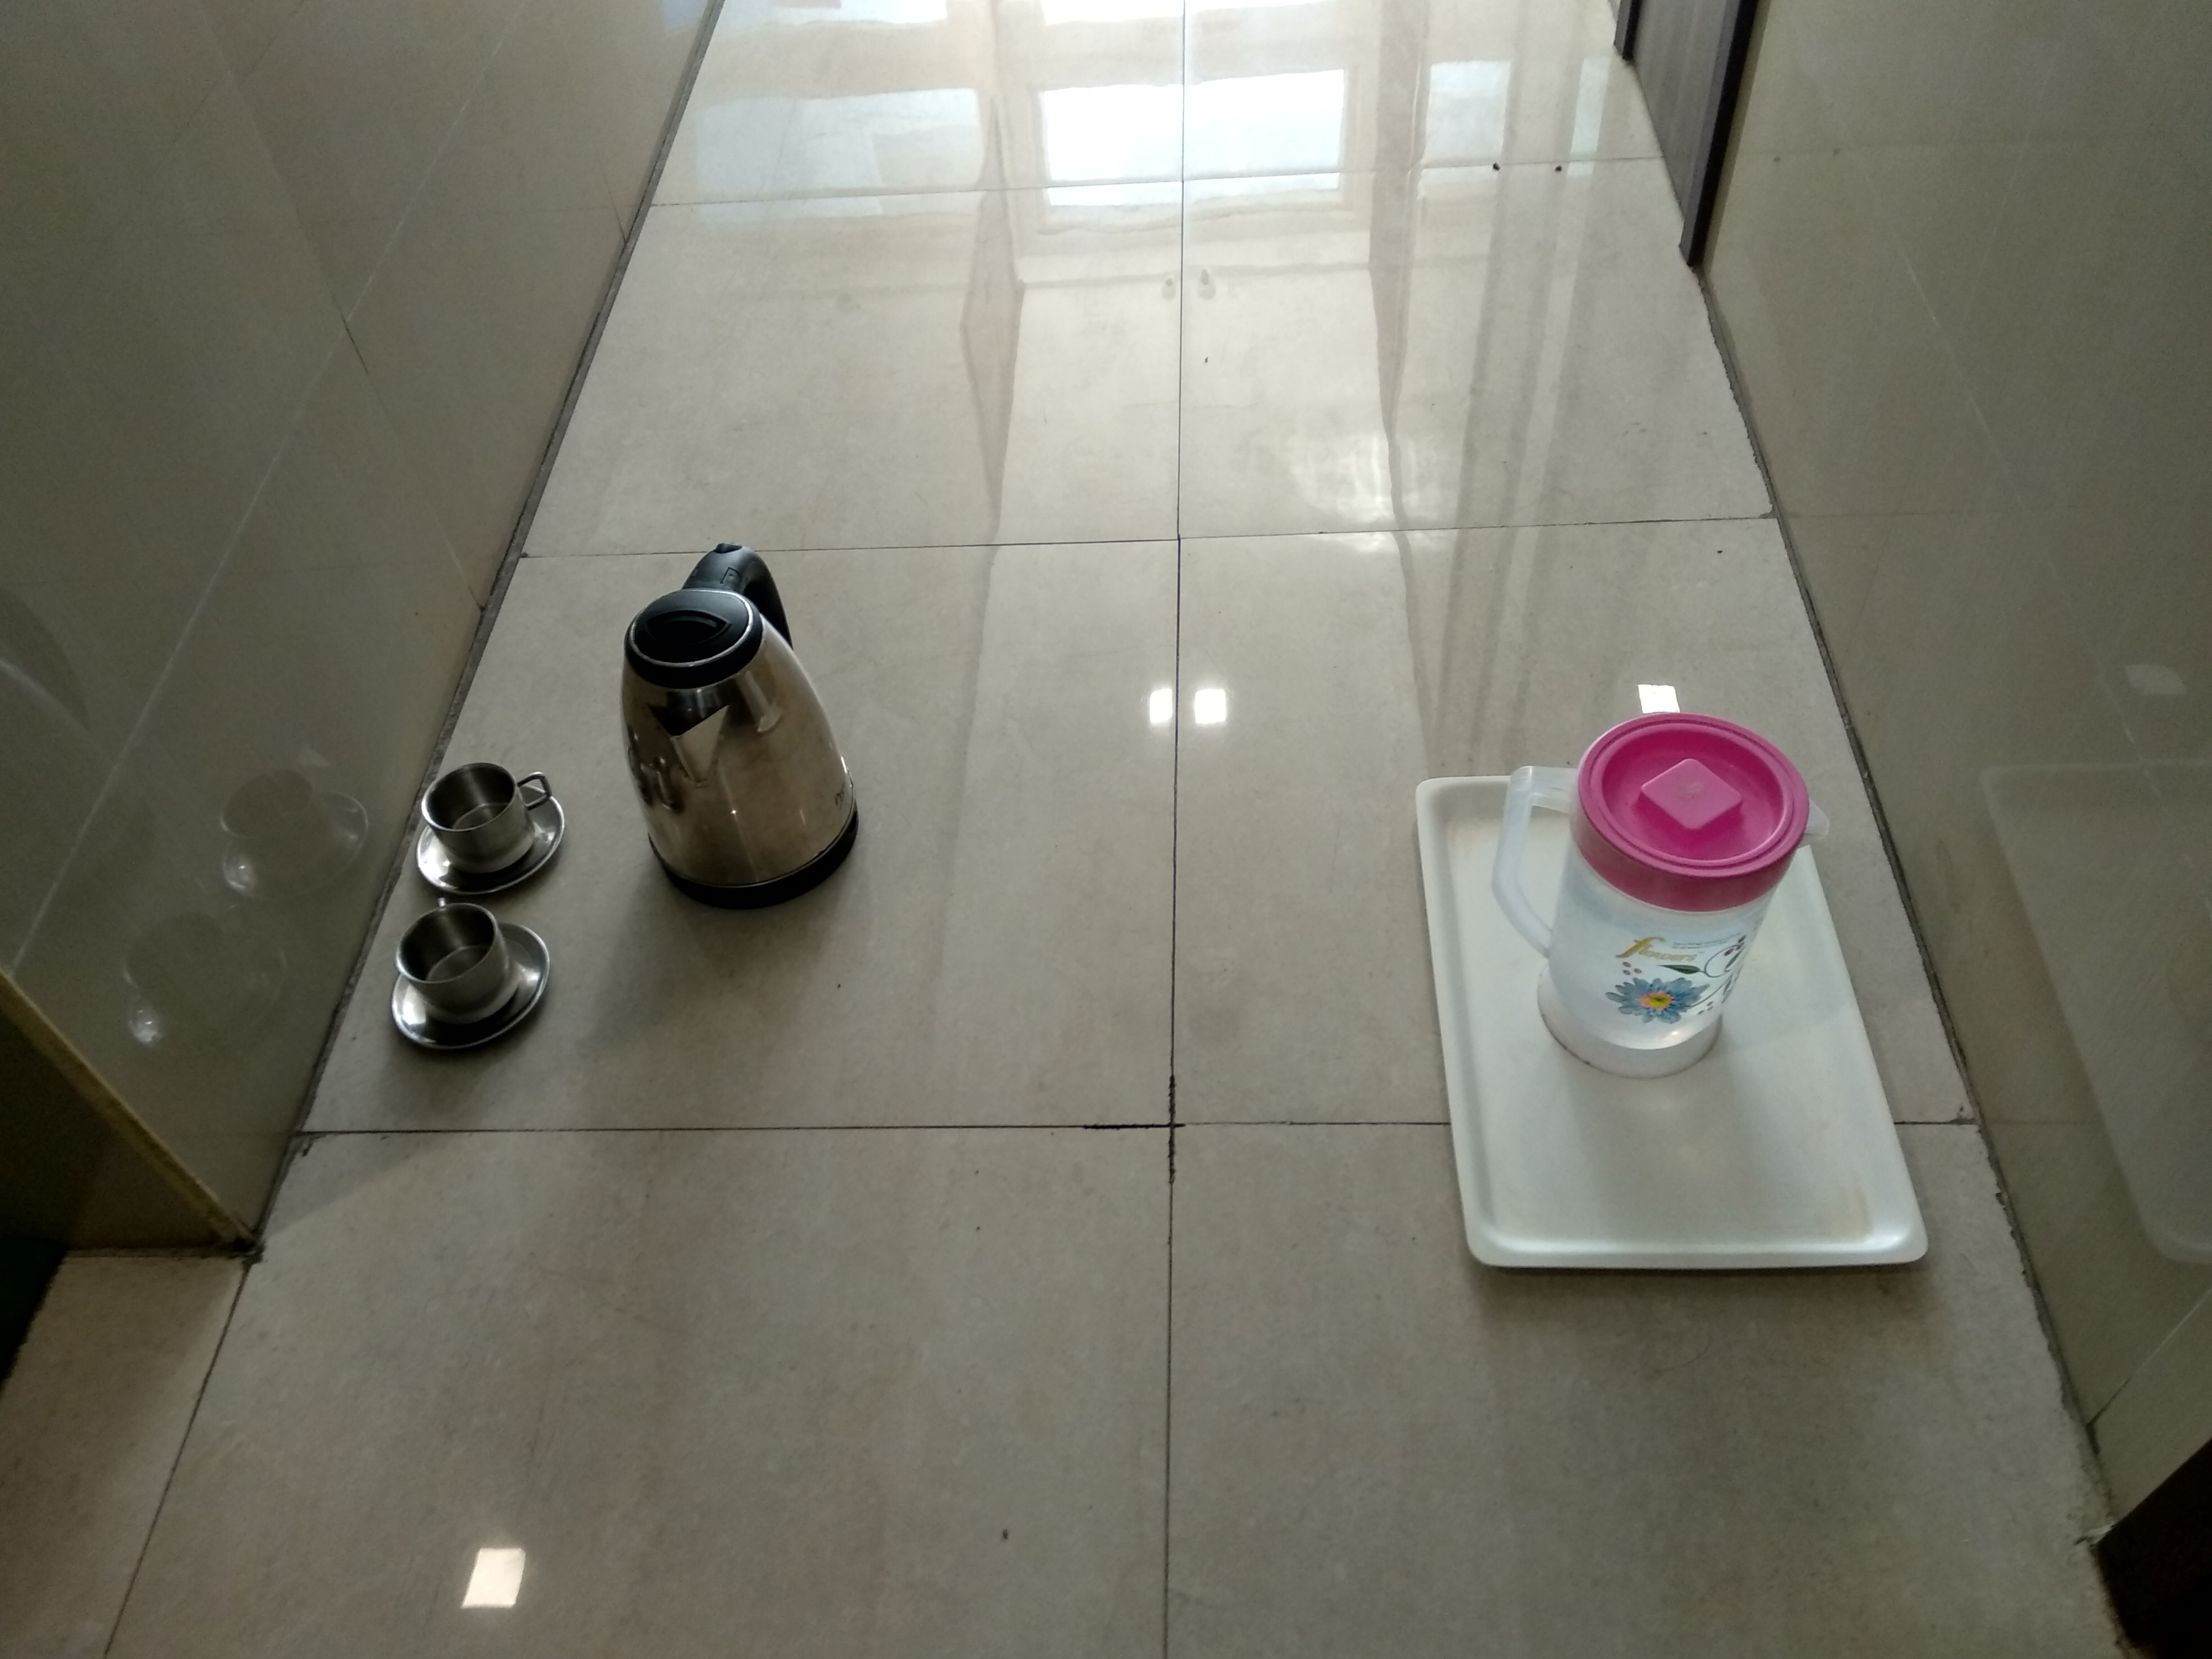CUP: (369, 906, 557, 1063), (395, 749, 566, 887)
JUG: (1470, 673, 1829, 1114), (592, 512, 864, 953)
